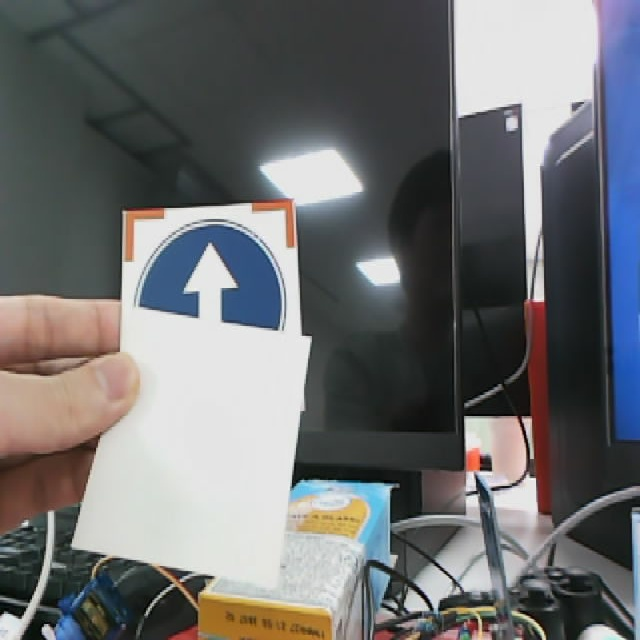strait: (115, 200, 306, 410)
